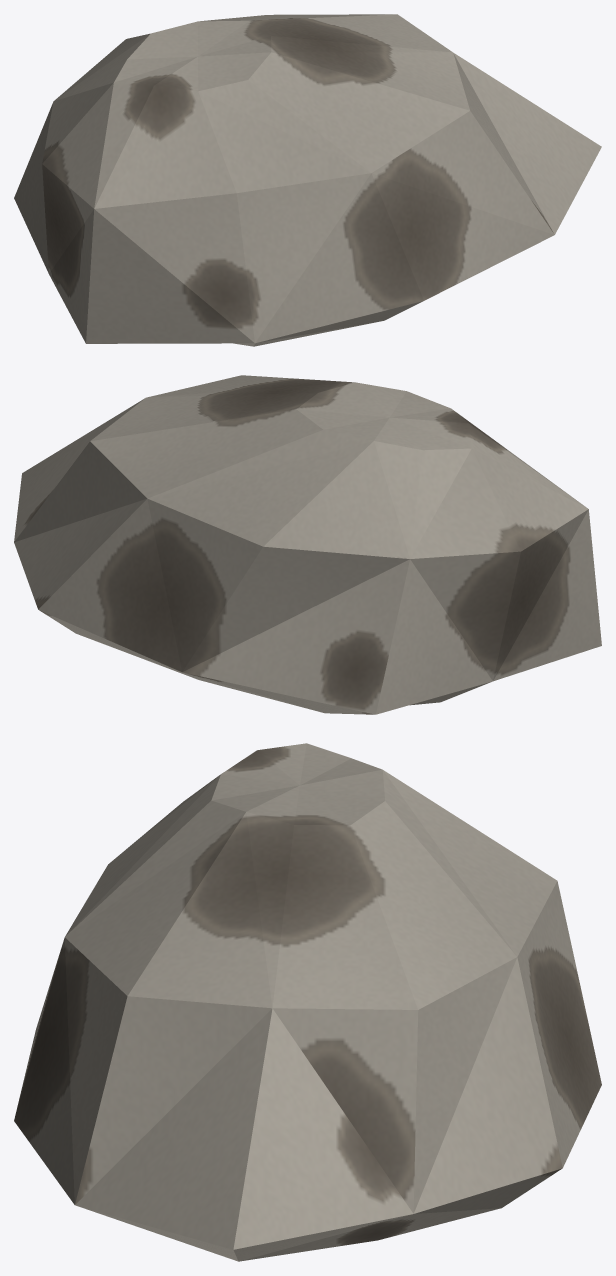
File: LittleStone.fbx
3 views of the same model, one above another, from view 1: azimuth 30°, elevation 25°; view 2: azimuth 150°, elevation 25°; view 3: azimuth 270°, elevation 25° (orthographic). The views are drawn at different scales.
Parts seen in each view (by area): view 1: SmallStone; view 2: SmallStone; view 3: SmallStone.
Part boxes in pixels (left/top/right/bottom): SmallStone: left=14, top=14, right=601, bottom=346; SmallStone: left=14, top=375, right=601, bottom=714; SmallStone: left=14, top=743, right=601, bottom=1261.
Bounding box in the file's own units: 2.46 × 1.09 × 1.76.
